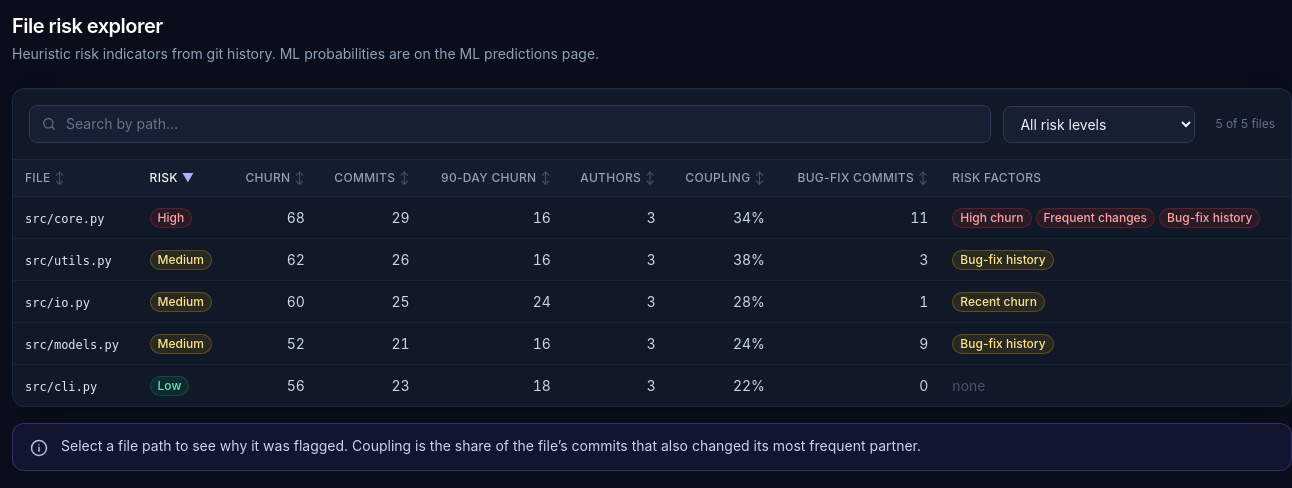
FileExplorer › filters by search text and shows an empty result
Step 1. Type "core" into the search field named "Search files" → (510, 124), box [29,105,991,143]
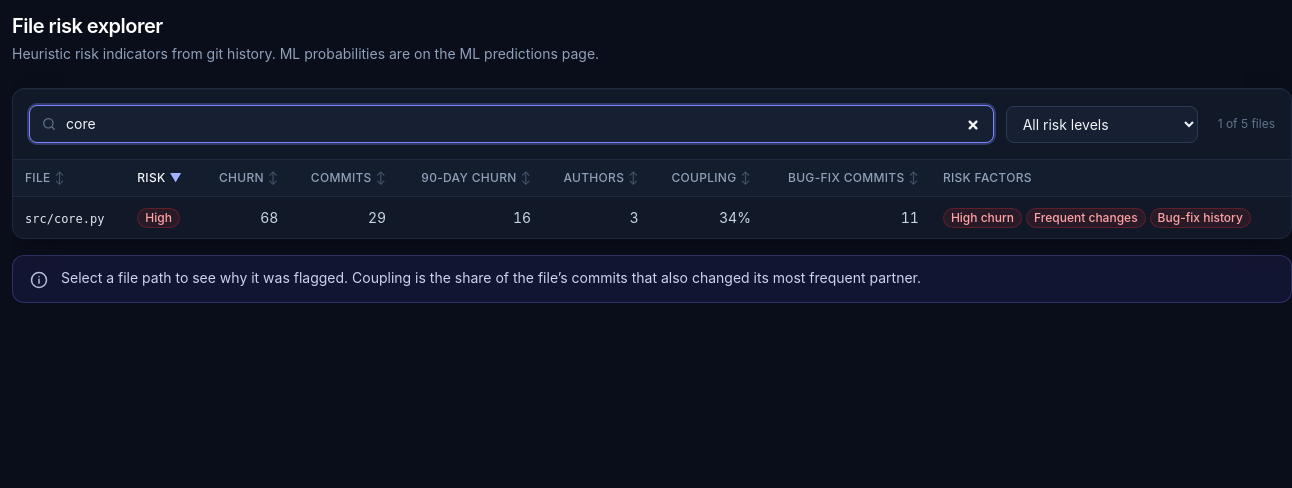
Step 2. Clear the search field named "Search files" → (511, 124), box [29,105,994,143]
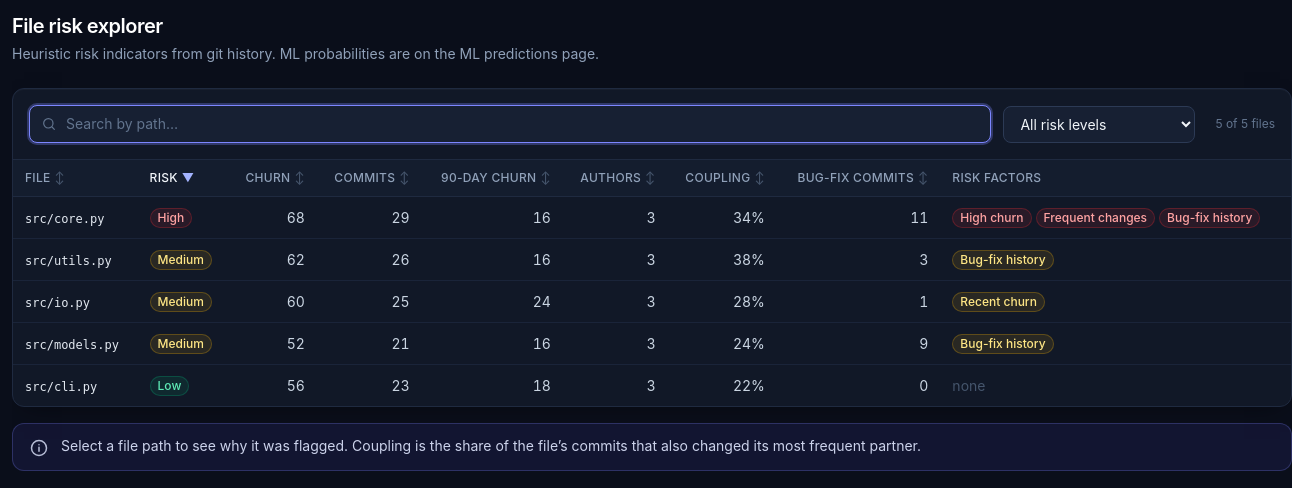
Step 3. Type "does-not-exist" into the search field named "Search files" → (510, 124), box [29,105,991,143]
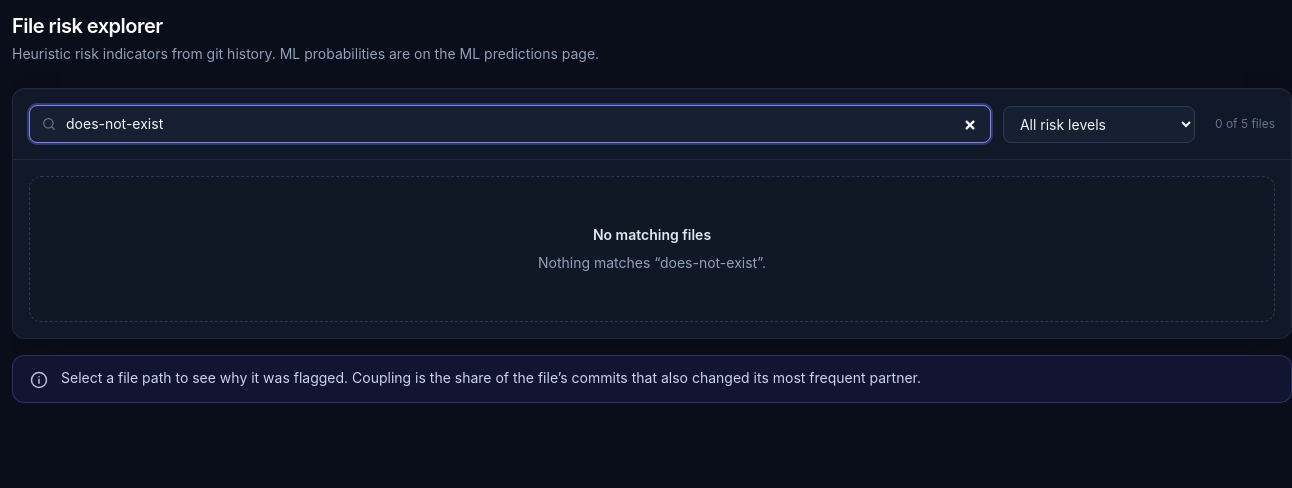
Now the text "No matching files" is shown, box [593,226,711,243]
